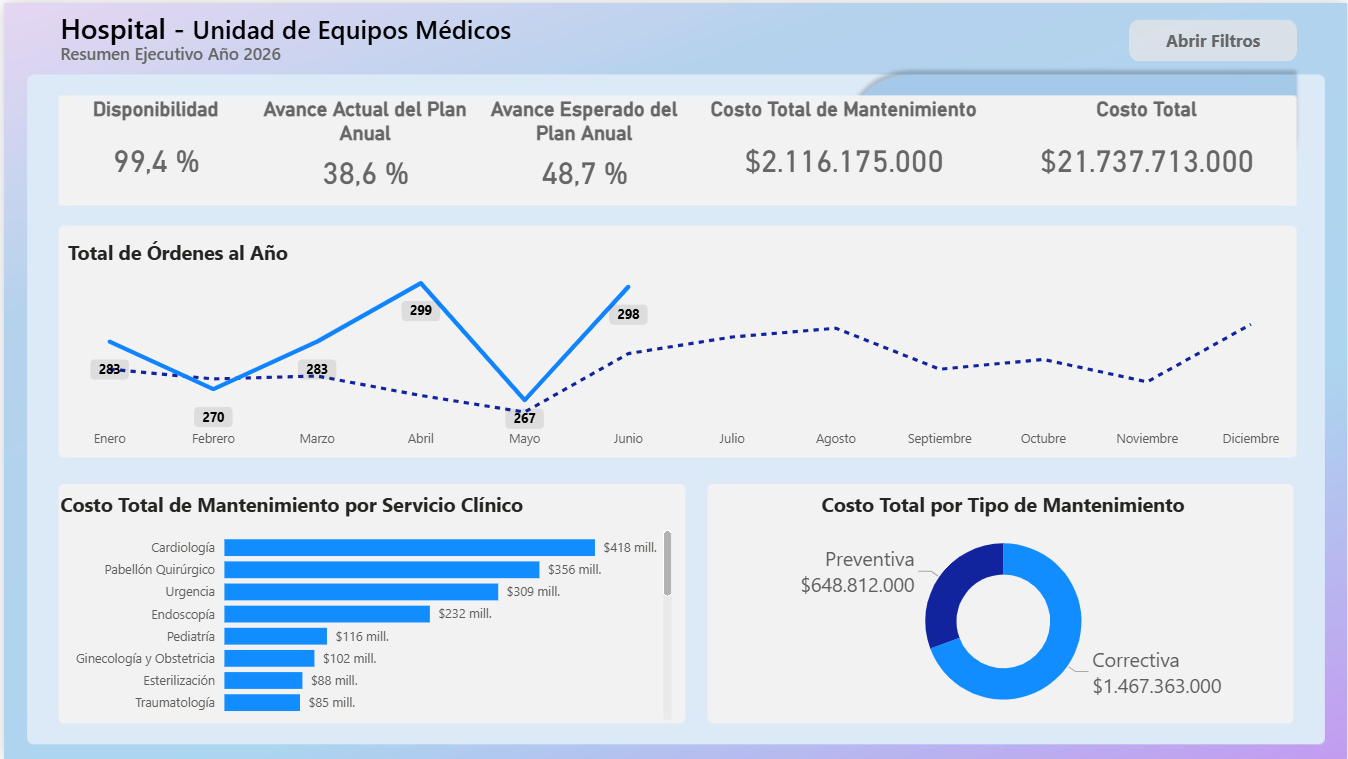

The page's visual inventory and layout, read from the dashboard file:
{"tool":"powerbi","page":{"name":"Resumen Año Actual","canvas":[1280,720],"ordinal":0},"visuals":[{"type":"card","title":"Disponibilidad","fields":{"Values":["_Medidas.Disponibilidad"]},"box":[48,90.7,192,96],"z":0},{"type":"actionButton","title":"Open","box":[1072,16,160,40],"z":1000,"group":"g1"},{"type":"card","title":"Costo Total de Mantenimiento","fields":{"Values":["_Medidas.Costo Total Mantenimiento"]},"box":[656,90.7,288,96],"z":1000},{"type":"donutChart","title":"Costo Total por Tipo de Mantenimiento","fields":{"Category":["dim_tipo_mantenimiento.nombre_tipo"],"Y":["_Medidas.Costo Total Mantenimiento"]},"box":[672,464,560,224],"z":2000},{"type":"clusteredBarChart","title":"Costo Total de Mantenimiento por Servicio Clínico","fields":{"Category":["dim_ubicacion.servicio_clinico"],"Y":["_Medidas.Costo Total Mantenimiento"]},"box":[48,464,592,224],"z":3000},{"type":"lineChart","title":"Total de Órdenes al Año","fields":{"Category":["dim_fecha.mes_nombre"],"Y":["_Medidas.Órdenes Año Anterior"],"Y2":["_Medidas.Órdenes Año Actual"]},"box":[56,224,1176,208],"z":4000},{"type":"card","title":"Avance Actual del Plan Anual","fields":{"Values":["_Medidas.% Avance Plan Anual"]},"box":[240,90.7,208,96],"z":5000},{"type":"card","title":"Avance Esperado del Plan Anual","fields":{"Values":["_Medidas.% Avance Esperado"]},"box":[448,90.7,208,96],"z":6000},{"type":"card","title":"Costo Total","fields":{"Values":["_Medidas.Costo Total"]},"box":[944,90.7,288,96],"z":7000},{"type":"group","id":"g1","title":"Buttons","box":[1072,16,160,40],"z":9000},{"type":"textbox","box":[48,0,448,48],"z":10000},{"type":"textbox","box":[48,32,304,32],"z":11000}]}

Visuals, with their boxes in screenshot pixels (x1, y1, x2, y2), scaled from the page's 1280x720 canvas onto the 1348x759 screenshot:
"Disponibilidad" card: region(51, 96, 253, 197)
"Open" actionButton: region(1129, 17, 1297, 59)
"Costo Total de Mantenimiento" card: region(691, 96, 994, 197)
"Costo Total por Tipo de Mantenimiento" donutChart: region(708, 489, 1297, 725)
"Costo Total de Mantenimiento por Servicio Clínico" clusteredBarChart: region(51, 489, 674, 725)
"Total de Órdenes al Año" lineChart: region(59, 236, 1297, 455)
"Avance Actual del Plan Anual" card: region(253, 96, 472, 197)
"Avance Esperado del Plan Anual" card: region(472, 96, 691, 197)
"Costo Total" card: region(994, 96, 1297, 197)
"Buttons" group: region(1129, 17, 1297, 59)
textbox: region(51, 0, 522, 51)
textbox: region(51, 34, 371, 67)
